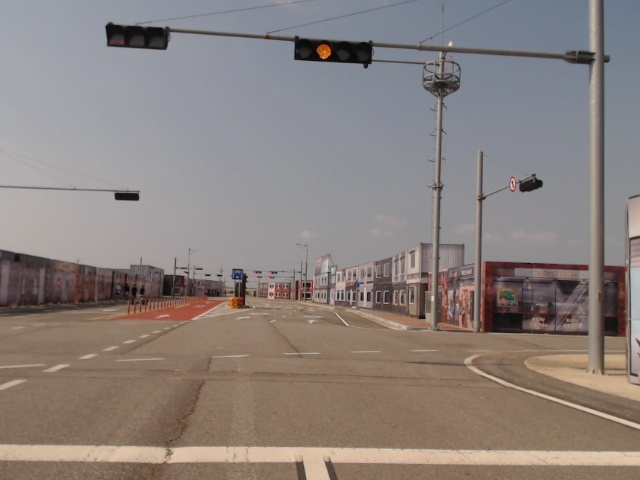orange_4: (291, 38, 371, 67)
